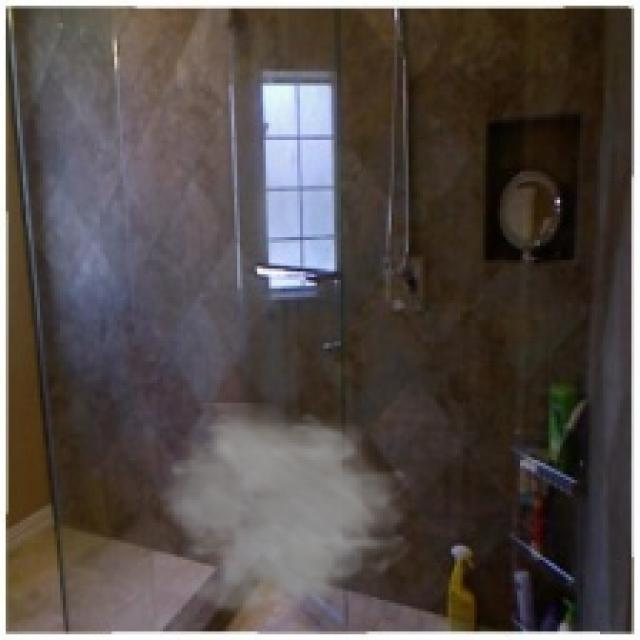smoke: (152, 403, 417, 631)
